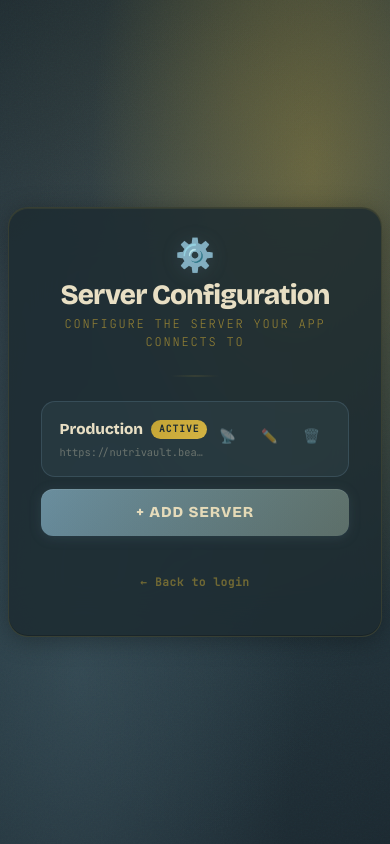
ServerConfigScreen › shows connected status on successful connection
Click the button "+ Add Server" at (195, 513), box [41,489,349,536]
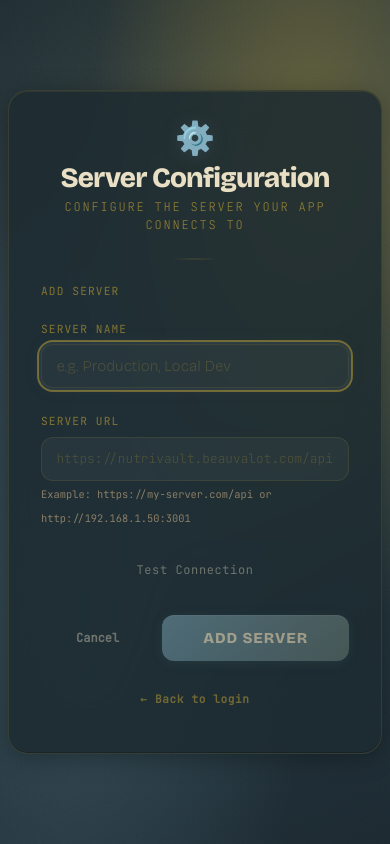
Check: the field with placeholder "https://nutrivault.beauvalot.com/api" is shown
Type "http://localhost:3001" into the field with placeholder "https://nutrivault.beauvalot.com/api" at (195, 459), box [41,437,349,481]
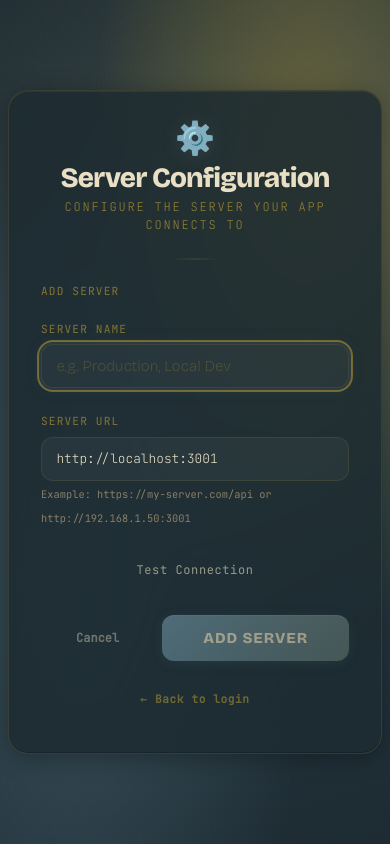
Click the button "Test Connection" at (195, 570), box [41,549,349,591]
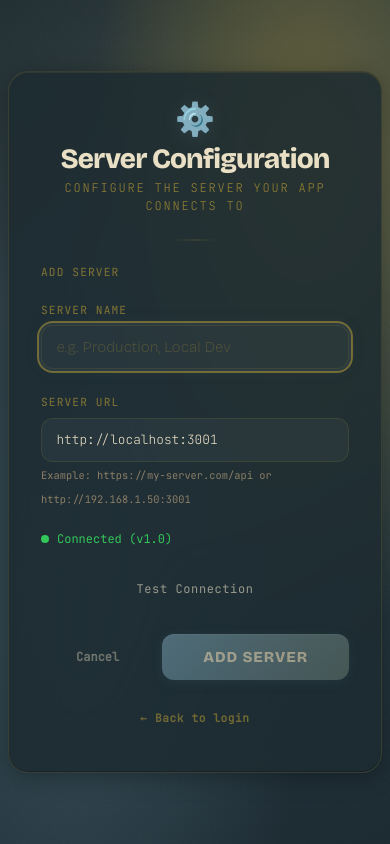
Check: the text "Connected (v1.0)" is shown, box [57,530,172,548]
